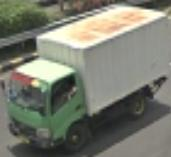truck: (3, 58, 91, 157)
